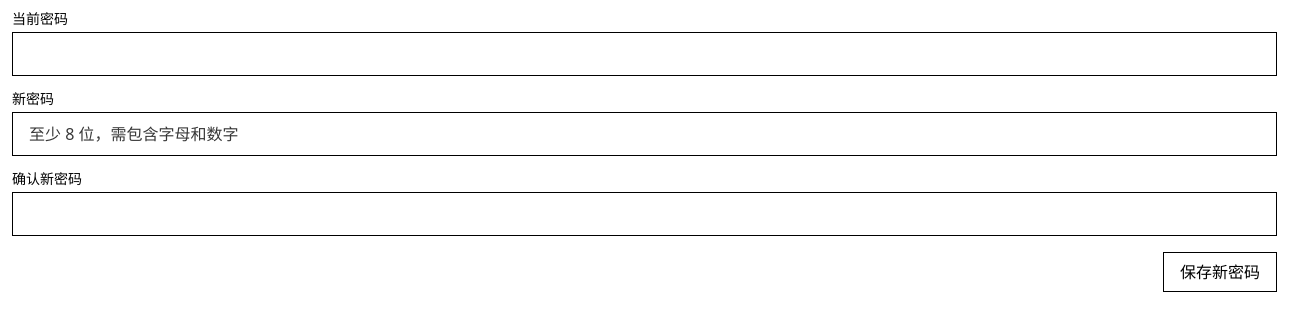
ChangePasswordForm › 新密码不合规时提示需求
Type "OldPass123" into the password field with id "old-password" at {"x": 644, "y": 54}, box x1=12 y1=32 x2=1277 y2=76
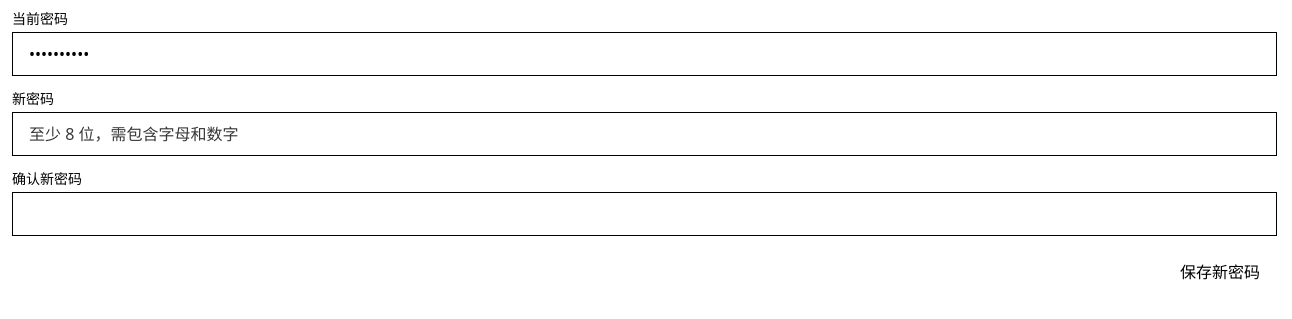
Type "short" into the password field with id "new-password" at {"x": 644, "y": 134}, box x1=12 y1=112 x2=1277 y2=156
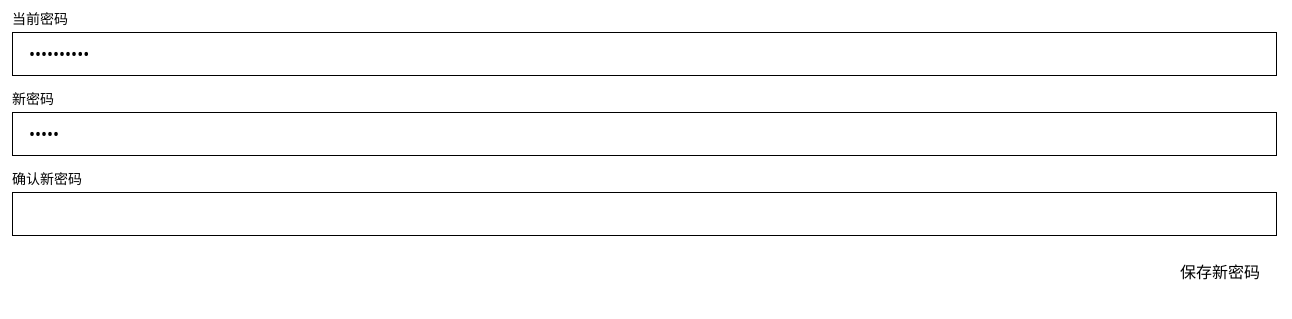
Type "short" into the password field with id "confirm-password" at {"x": 644, "y": 214}, box x1=12 y1=192 x2=1277 y2=236
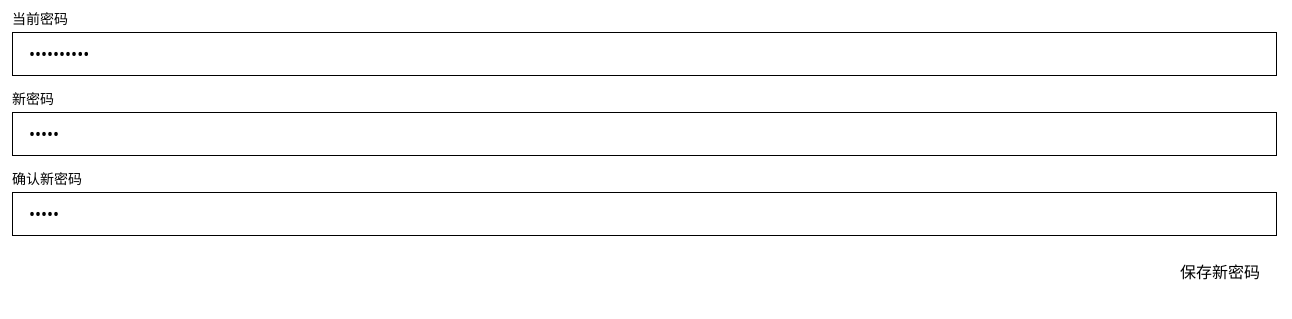
Click the button "保存新密码" at {"x": 1220, "y": 272}, box x1=1163 y1=252 x2=1277 y2=292
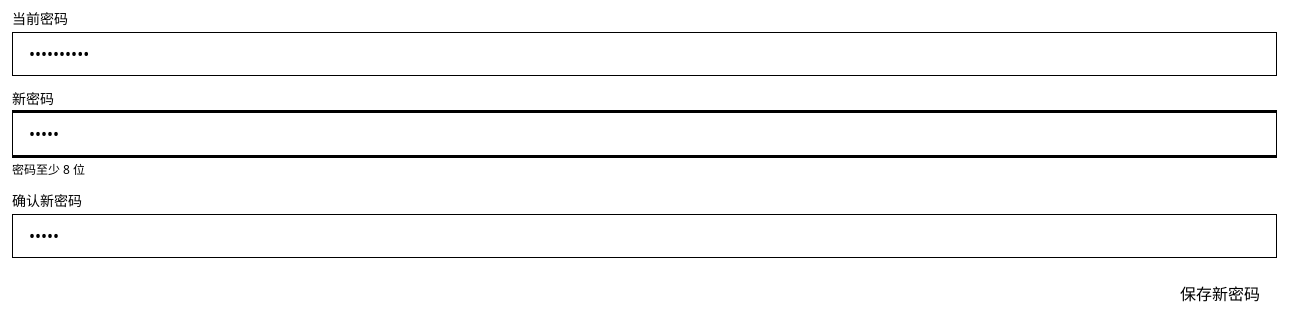
Now the text "密码至少 8 位" is shown, box x1=12 y1=161 x2=85 y2=178
